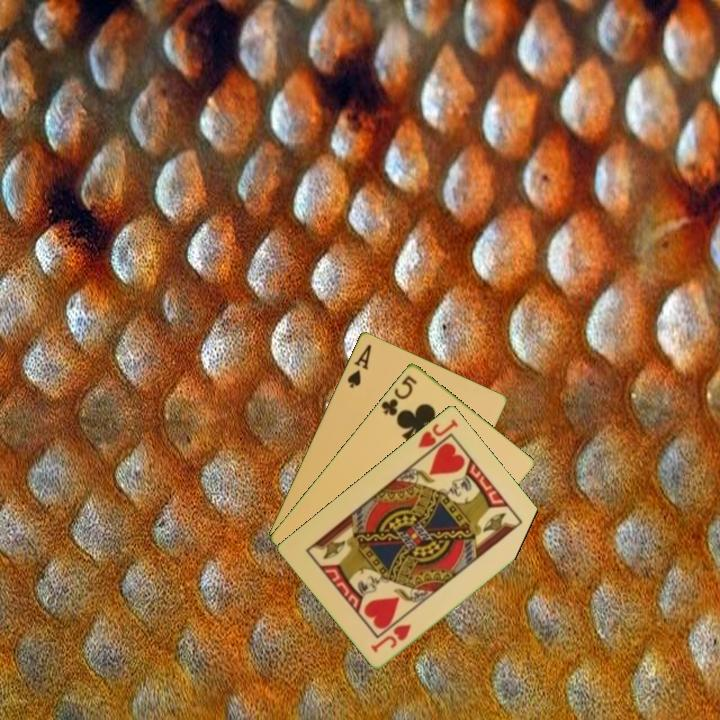5c: (377, 371, 420, 420)
As: (343, 340, 374, 391)
Jh: (414, 415, 461, 460), (368, 620, 414, 655)
